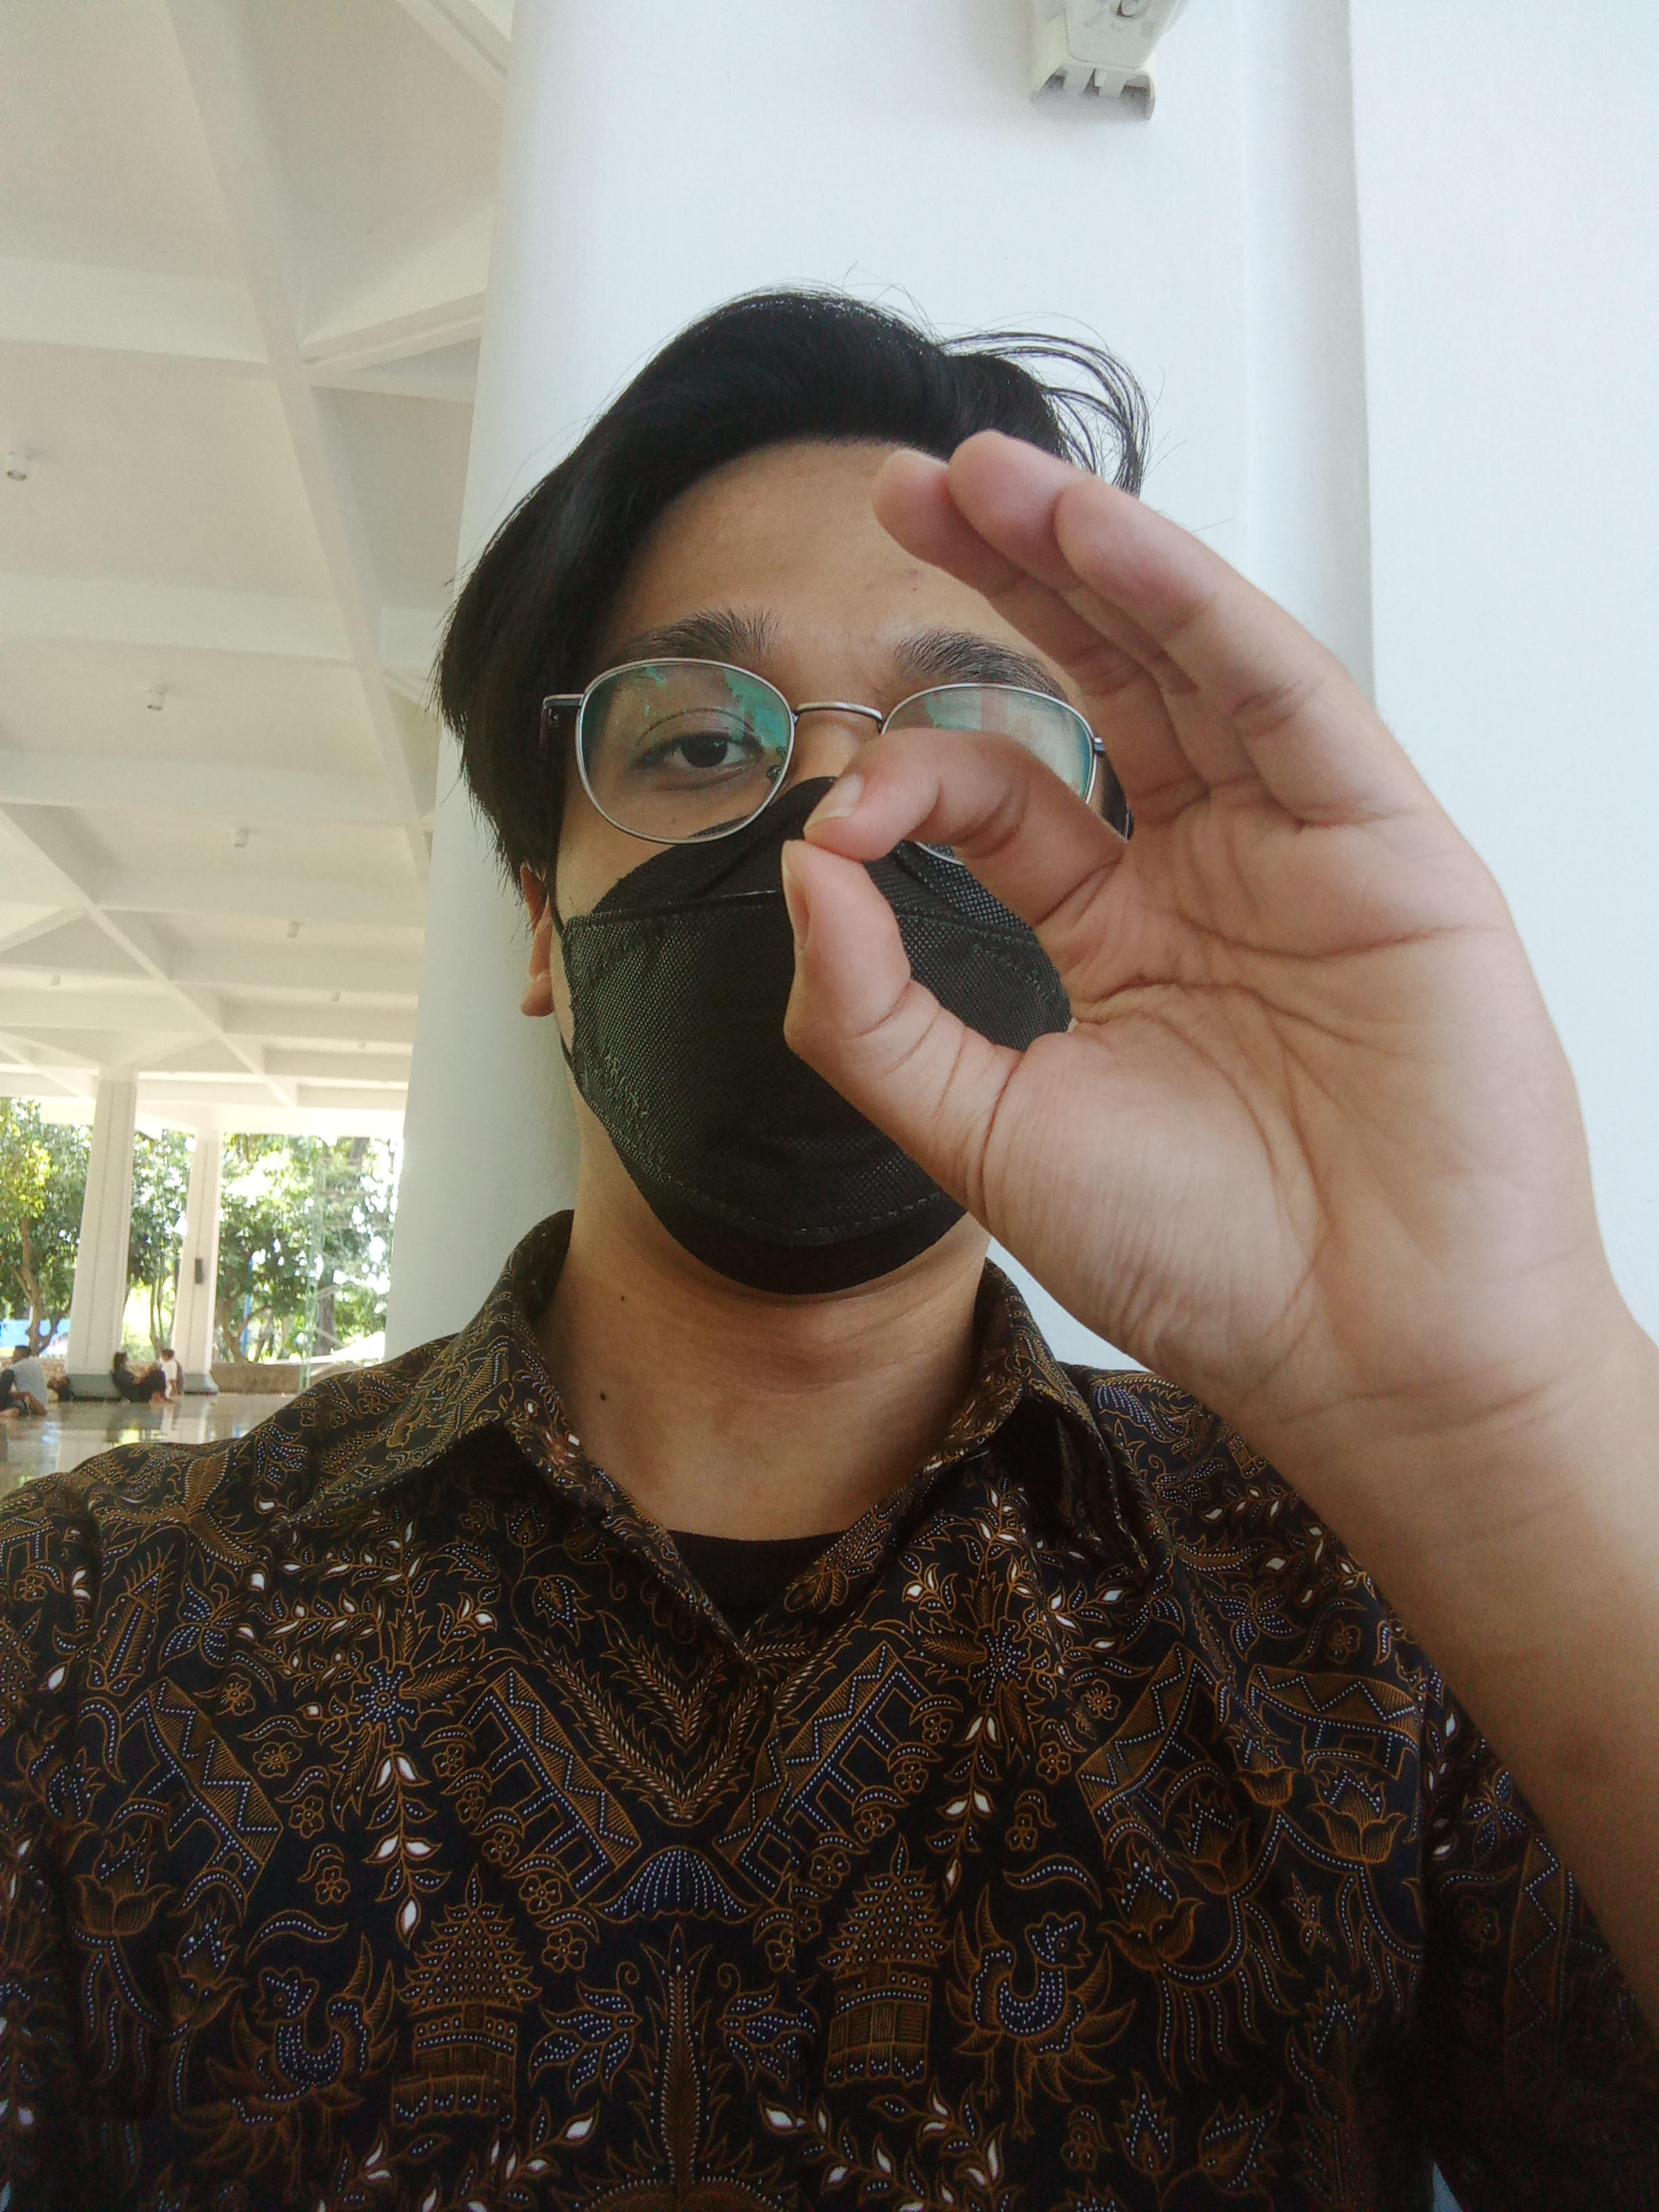O: (755, 416, 1659, 1524)
